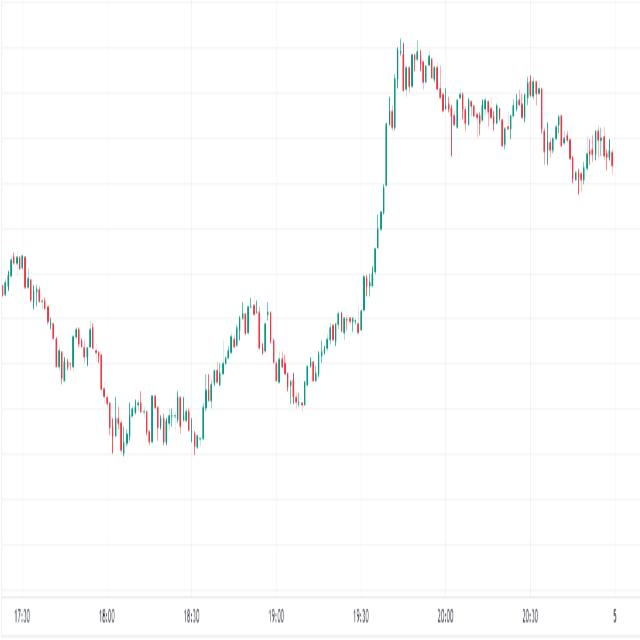Rounding-Top: (199, 287, 301, 398)
rectangle: (123, 386, 199, 455), (450, 87, 505, 142), (65, 320, 104, 372)
